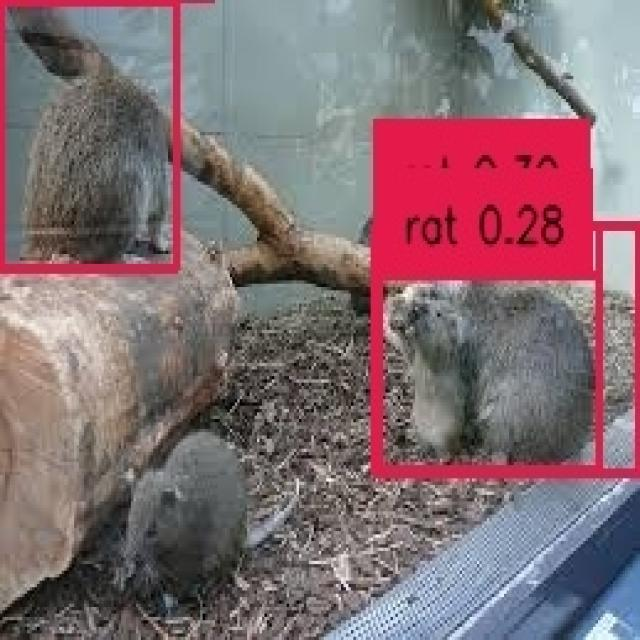rat: (371, 221, 635, 468), (373, 221, 596, 465), (0, 0, 173, 264), (376, 271, 596, 465)
